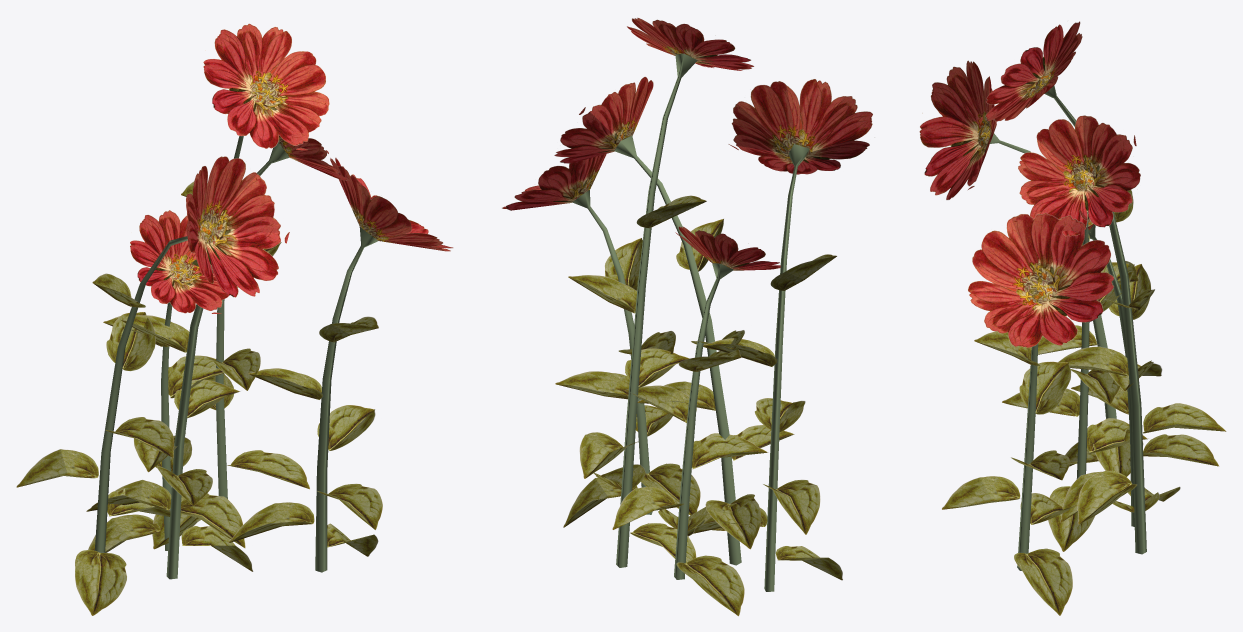
3 renders of one model, left to right at view 1: azimuth 30°, elevation 25°; view 2: azimuth 150°, elevation 25°; view 3: azimuth 270°, elevation 25°, orthographic. The views are drawn at different scales.
Visible parts, largest first — view 1: Tree_2; view 2: Tree_2; view 3: Tree_2.
Boxes of the visible parts, bbox=[...] form: Tree_2: bbox=[16, 23, 453, 615]; Tree_2: bbox=[502, 17, 872, 616]; Tree_2: bbox=[919, 21, 1226, 615].
Bounding box in the file's own units: 68.06 × 96.21 × 51.53.
Materials: 3 (2 with a texture image).
